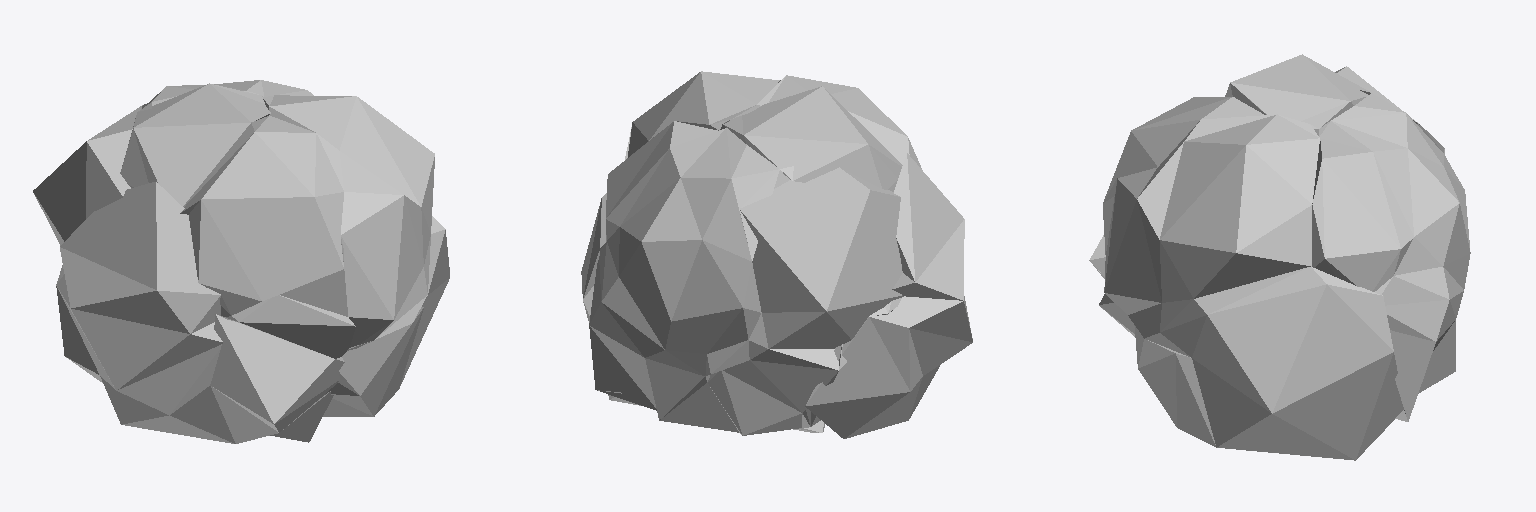
Rendered from bush.obj.
The picture shows the model from 3 angles: view 1: azimuth 30°, elevation 25°; view 2: azimuth 150°, elevation 25°; view 3: azimuth 270°, elevation 25°; orthographic projection.
Visible parts, largest first — view 1: Icosphere; view 2: Icosphere; view 3: Icosphere.
Boxes of the visible parts, <box> form: Icosphere: <box>33,80,449,443</box>; Icosphere: <box>581,71,972,438</box>; Icosphere: <box>1089,54,1470,460</box>.
Bounding box in the file's own units: 1.34 × 1.07 × 1.16.